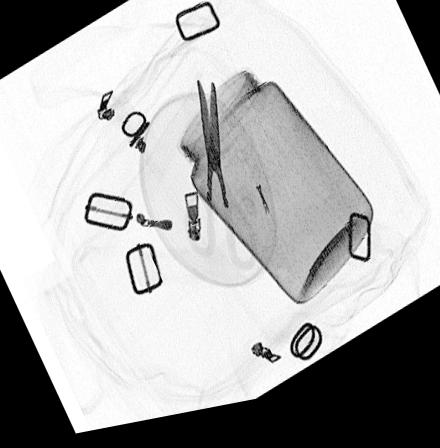Scissors: (182, 81, 261, 278)
